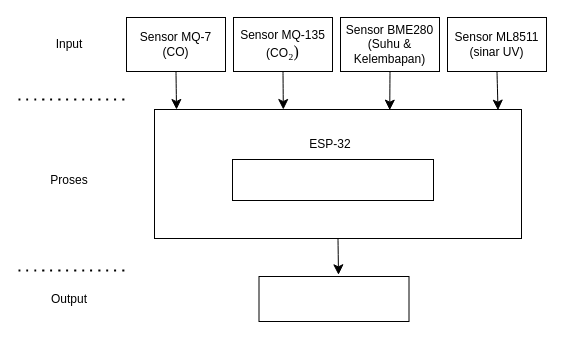
Some shapes in this 564 by 339 pixel diagram are drawn without their labels. The centre of each missing label's shape, as x and y in pixels:
Fuzzy Logic: (x=333, y=179)
Web Dasboard: (x=333, y=299)
